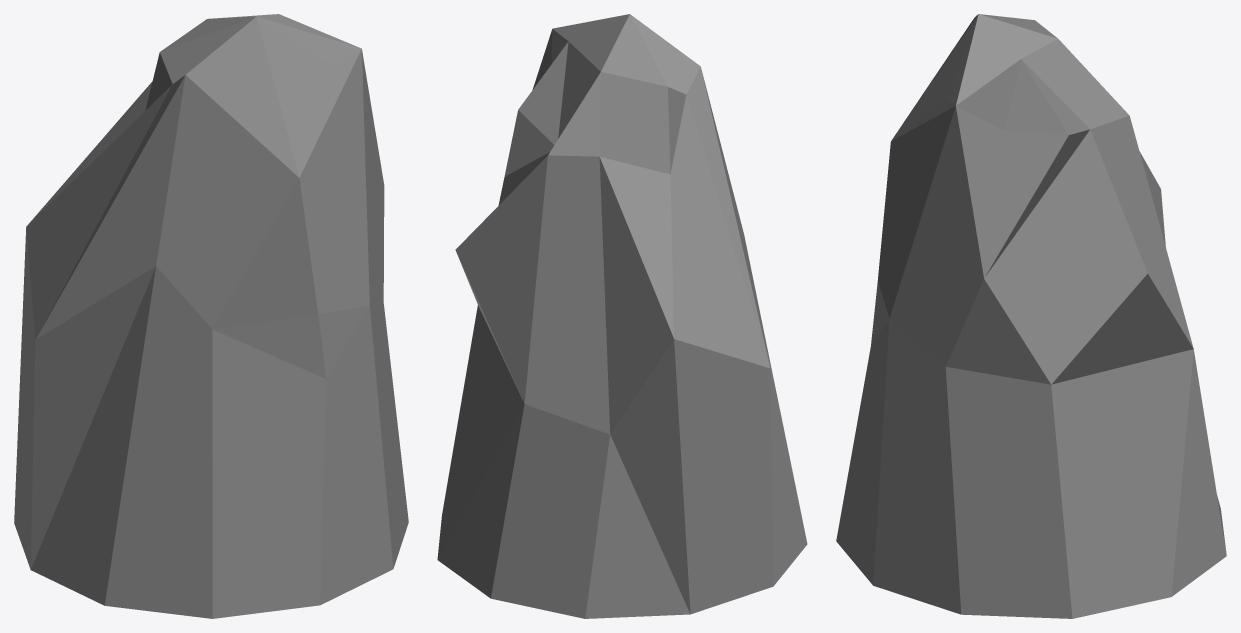
File: Stalagmite 5.fbx
3 renders of one model, left to right at view 1: azimuth 30°, elevation 25°; view 2: azimuth 150°, elevation 25°; view 3: azimuth 270°, elevation 25°, orthographic. The views are drawn at different scales.
Visible parts, largest first — view 1: Stalagmite_5; view 2: Stalagmite_5; view 3: Stalagmite_5.
Part boxes in pixels (x1=…): Stalagmite_5: x1=14, y1=14, x2=408, y2=618; Stalagmite_5: x1=437, y1=14, x2=807, y2=618; Stalagmite_5: x1=836, y1=14, x2=1226, y2=618.
Size of the model in its own units: 181 by 272 by 181.
Materials: 1 (1 with a texture image).
